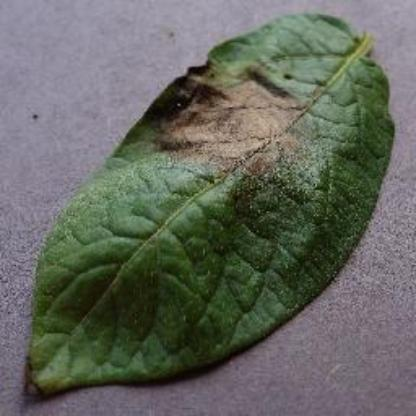Late-Blight: (33, 11, 397, 388)
